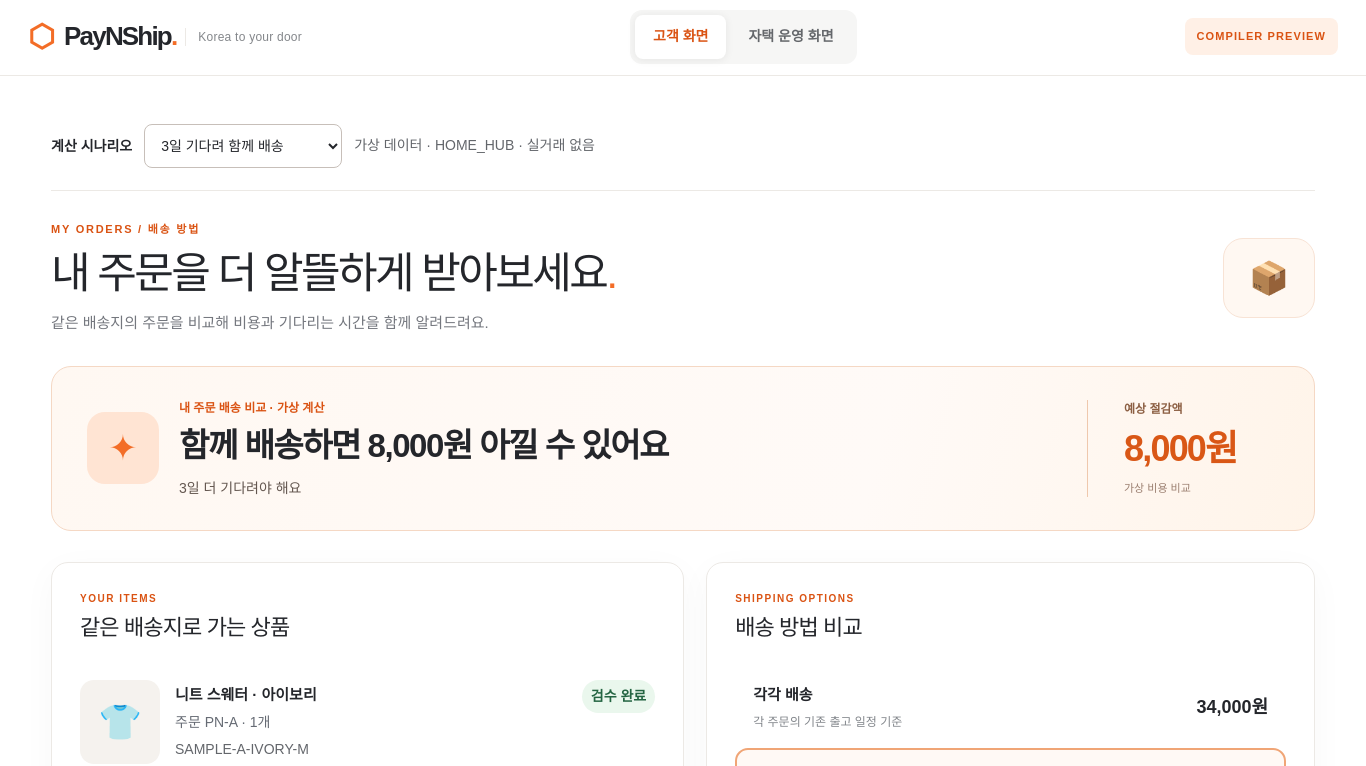
Scenario: compiler-driven preview › removes savings and proposal actions when evidence is missing
The width and height of the screenshot is (1366, 766).
Select "통관 근거 미확인" in the dropdown labelled "계산 시나리오" at (243, 146), box 144,124 -> 342,168
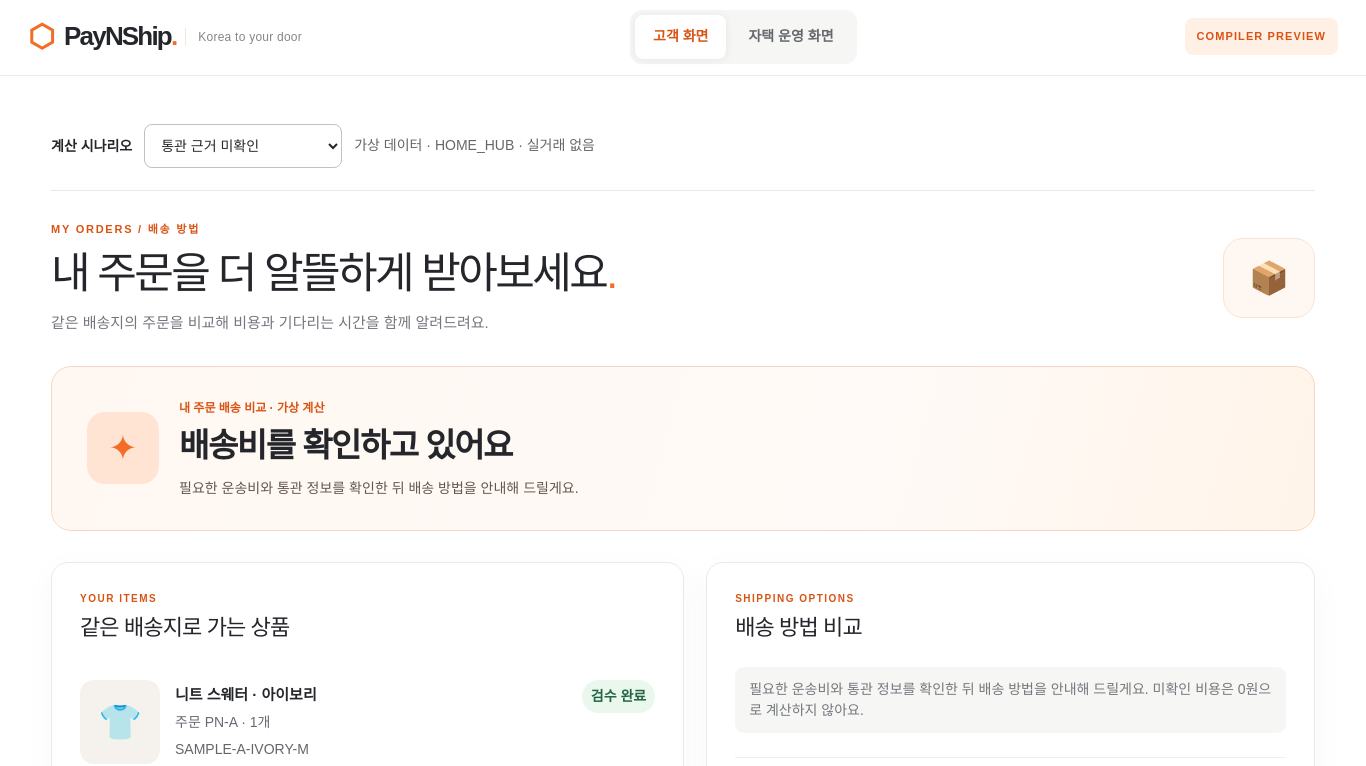
Check: the heading "배송비를 확인하고 있어요" is shown, box 179,427 -> 512,464
Check: the heading "8,000원" is gone
Click the button "자택 운영 화면".
click(791, 36)  # box 730,14 -> 852,58
(page scrolled)
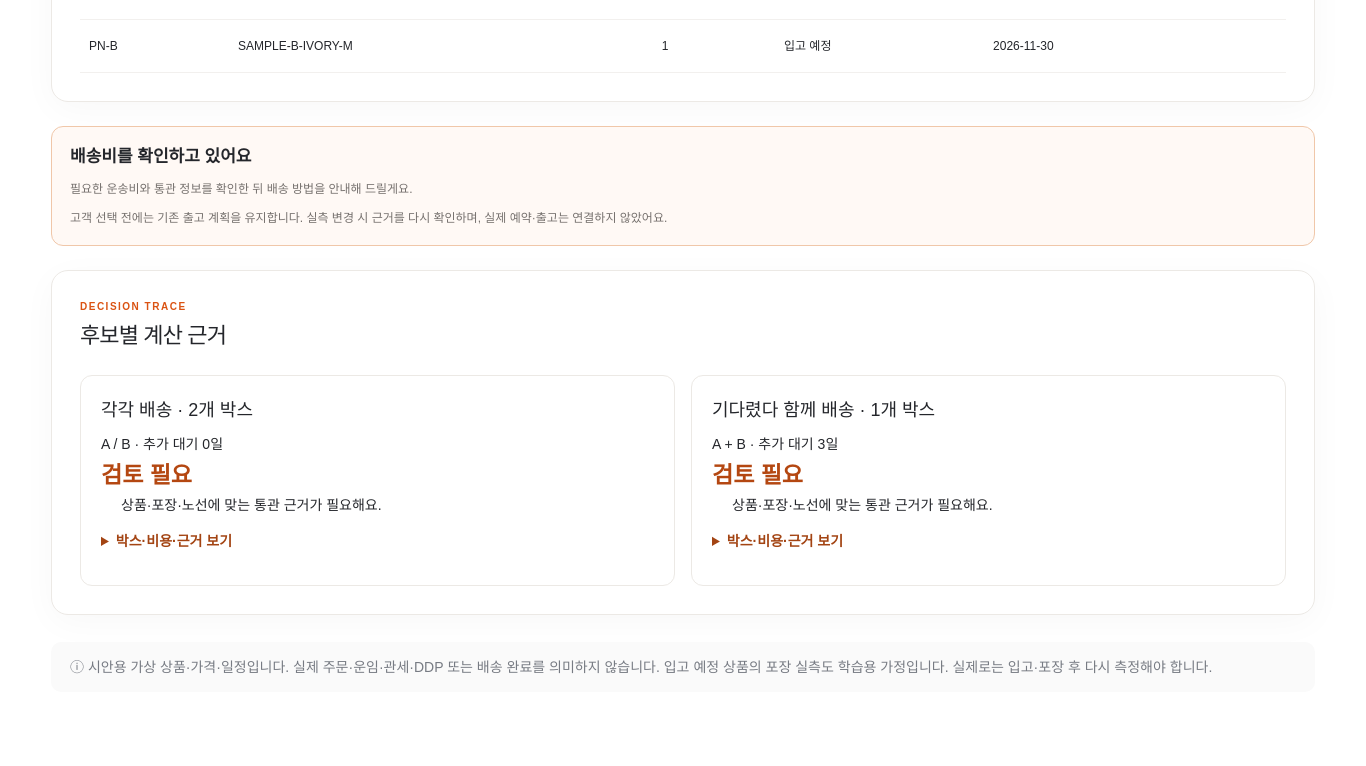
Check: the list item "상품·포장·노선에 맞는 통관 근거가 필요해요." below "A / B" is shown, box 121,497 -> 382,513
